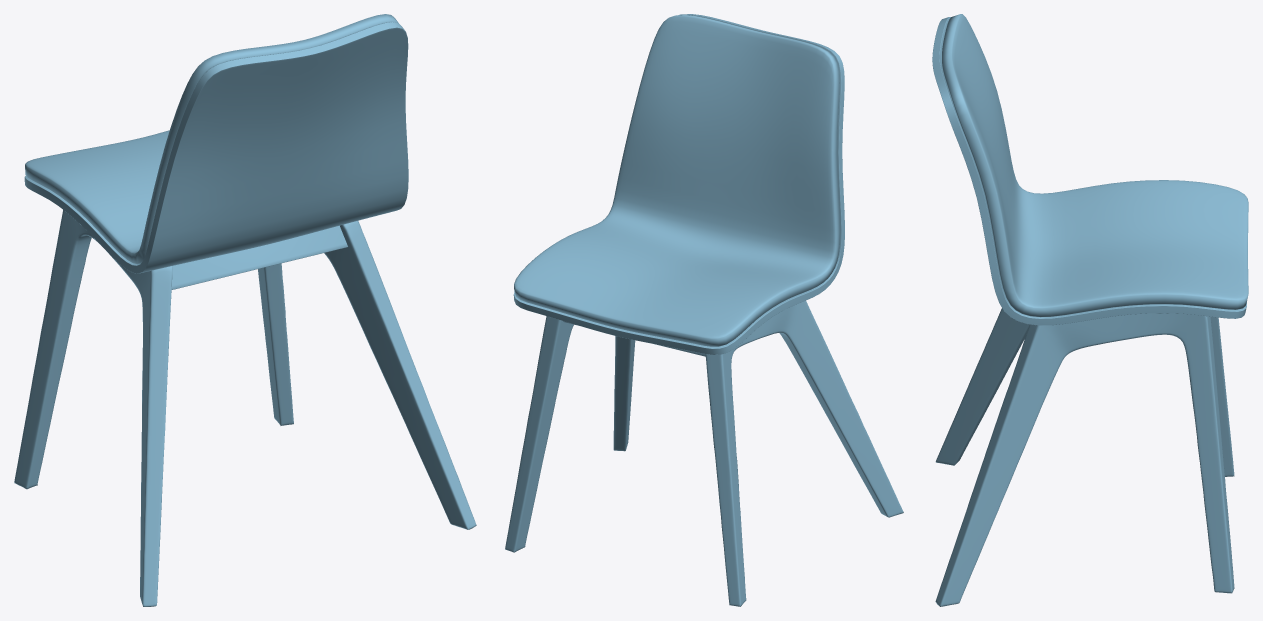
The model's file is DiningSet_Gen_3_Chair.fbx.
3 views of the same model, side by side, from view 1: azimuth 30°, elevation 25°; view 2: azimuth 150°, elevation 25°; view 3: azimuth 270°, elevation 25° (orthographic). The views are drawn at different scales.
Parts seen in each view (by area): view 1: mesh_chair; view 2: mesh_chair; view 3: mesh_chair.
Boxes of the visible parts, <box> form: mesh_chair: <box>14,14,476,606</box>; mesh_chair: <box>505,14,903,606</box>; mesh_chair: <box>932,14,1248,606</box>.
Bounding box in the file's own units: 66.13 × 99.58 × 59.18.
